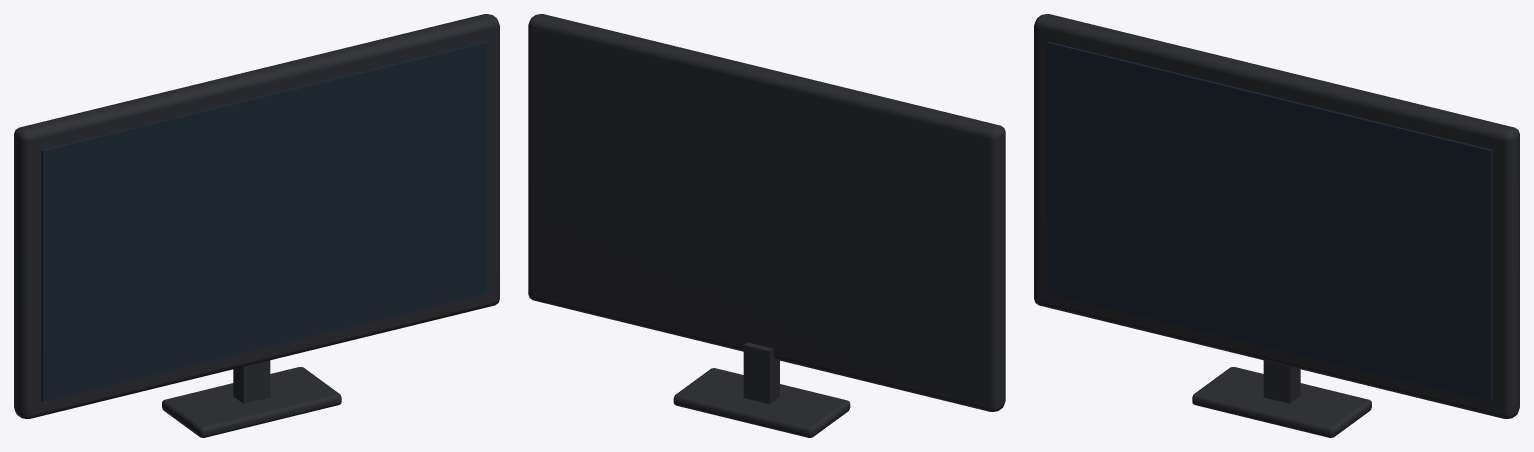
3 views of the same model, side by side, from view 1: azimuth 30°, elevation 25°; view 2: azimuth 150°, elevation 25°; view 3: azimuth 330°, elevation 25° (orthographic).
Parts seen in each view (by area): view 1: TV; view 2: TV; view 3: TV.
Part boxes in pixels (x1,y1,x2,y2): TV: (14,14,499,437); TV: (528,14,1005,437); TV: (1034,14,1519,437).
Size of the model in its own units: 5.4 by 3.65 by 0.8.
Materials: 1 (1 with a texture image).
